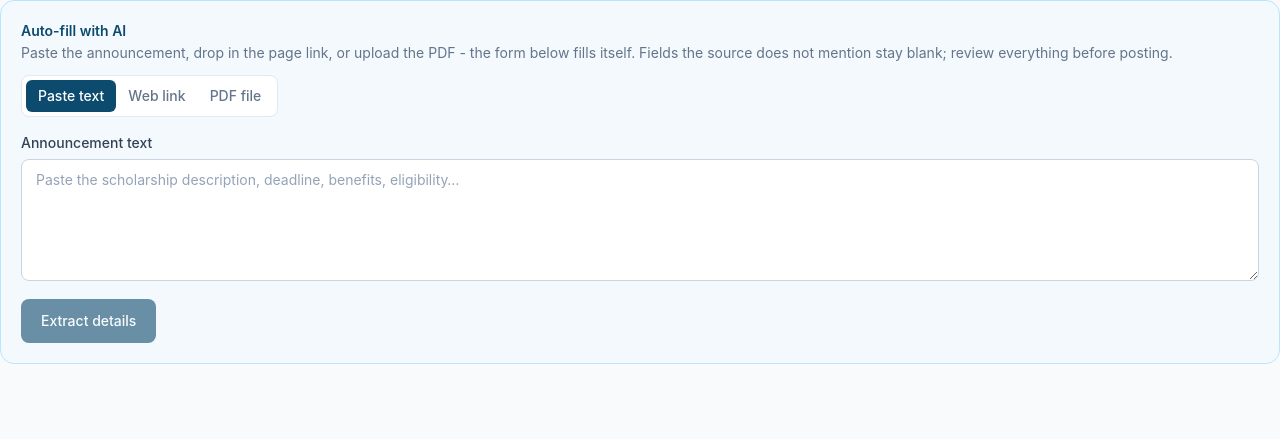
Test: ScholarshipExtract › surfaces extraction errors
The image size is (1280, 439).
In the text box labelled "Announcement text": (640, 220) 21,159 -> 1259,281, type "The Example Fellowship 2027 offers fully funded masters study in Germany. Deadline 1 March 2027."
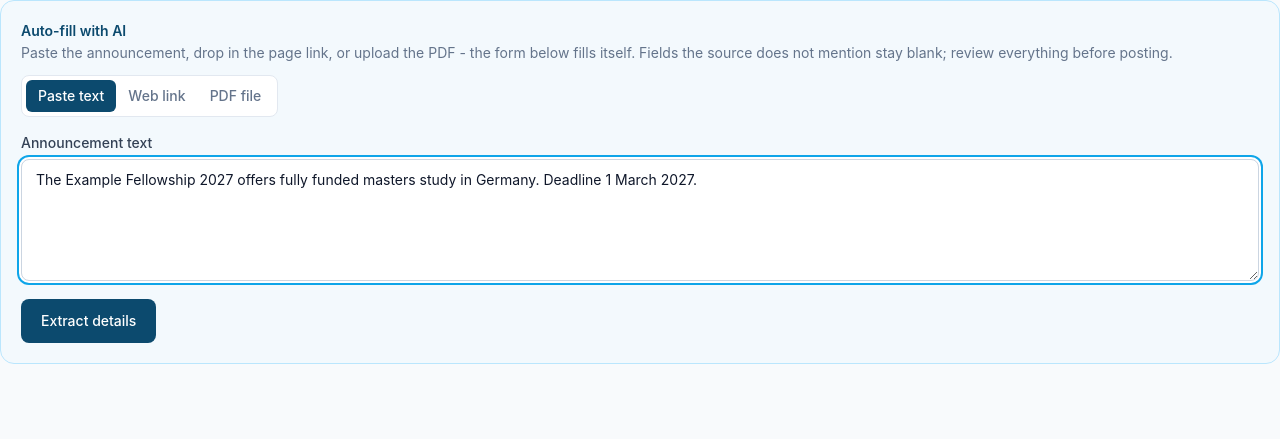
Click the button "Extract details": (89, 321) 21,299 -> 156,343
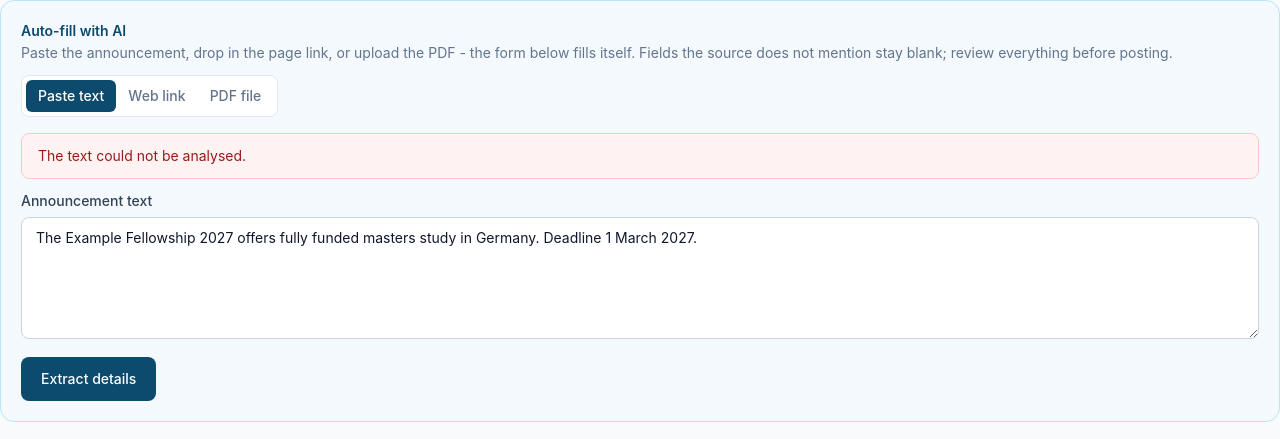
Now the text "The text could not be analysed." is shown, box 38,147 -> 246,164
